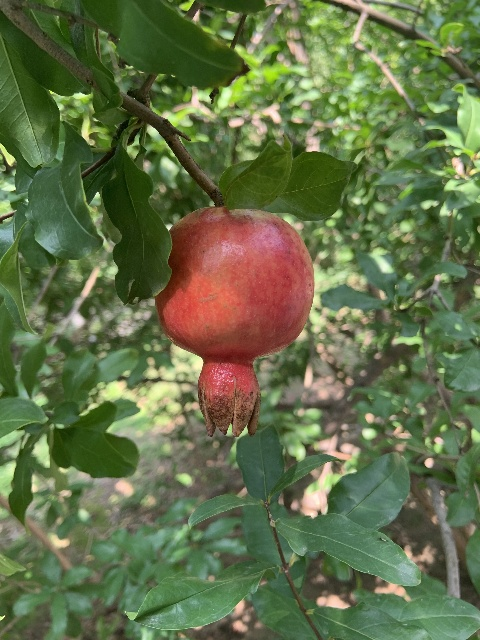ripe: (155, 206, 313, 438)
